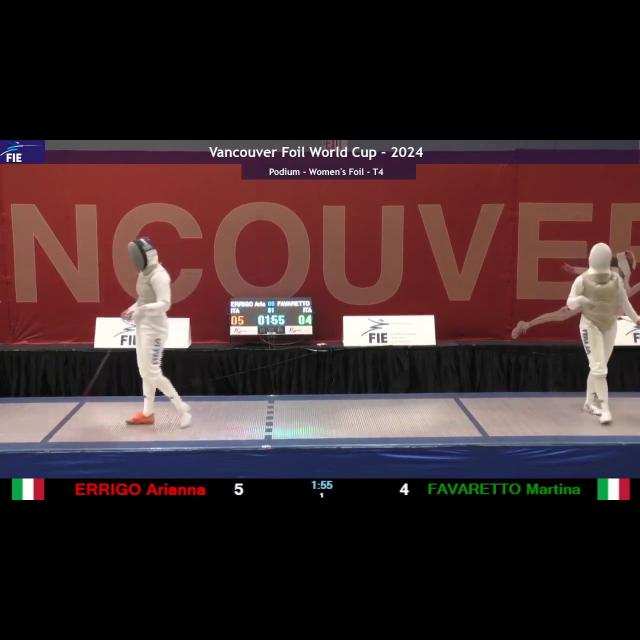blade: (82, 312, 132, 398)
